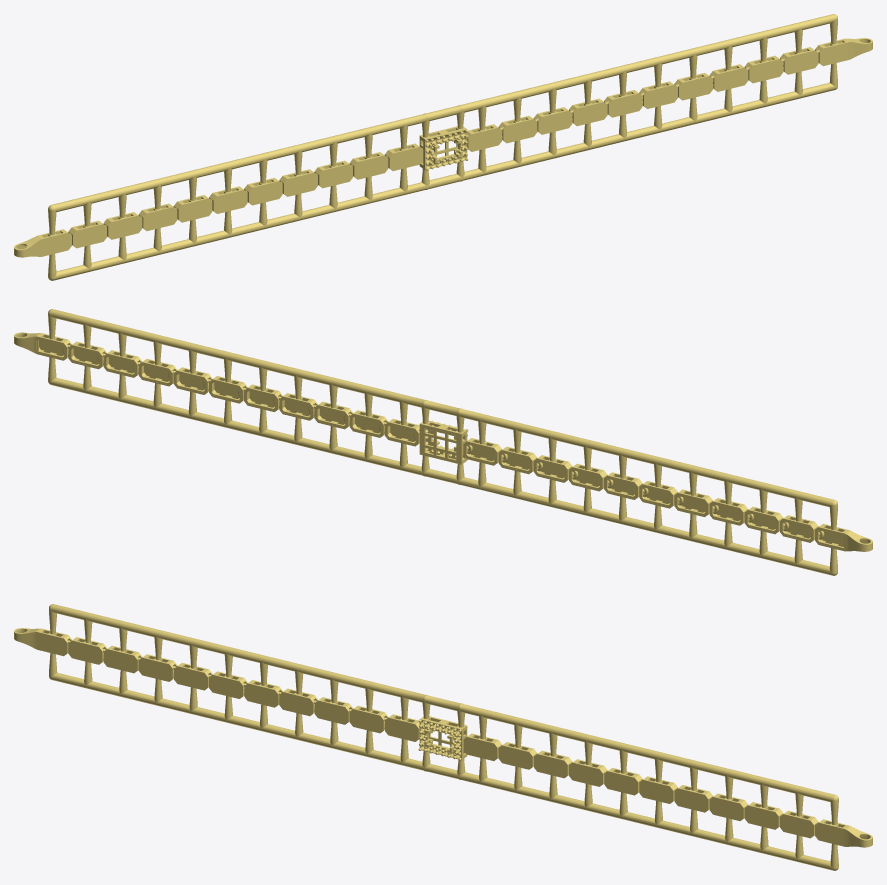
The model's file is yzn5-97_5.glb.
The picture shows the model from 3 angles, top to bottom: view 1: azimuth 30°, elevation 25°; view 2: azimuth 150°, elevation 25°; view 3: azimuth 330°, elevation 25°; orthographic projection.
Visible parts, largest first — view 1: Renderer Node; view 2: Renderer Node; view 3: Renderer Node.
Part boxes in pixels (x1,y1,x2,y2): Renderer Node: [14, 14, 872, 280]; Renderer Node: [14, 309, 872, 575]; Renderer Node: [14, 604, 872, 870].
Size of the model in its own units: 177 by 14.94 by 3.3.
